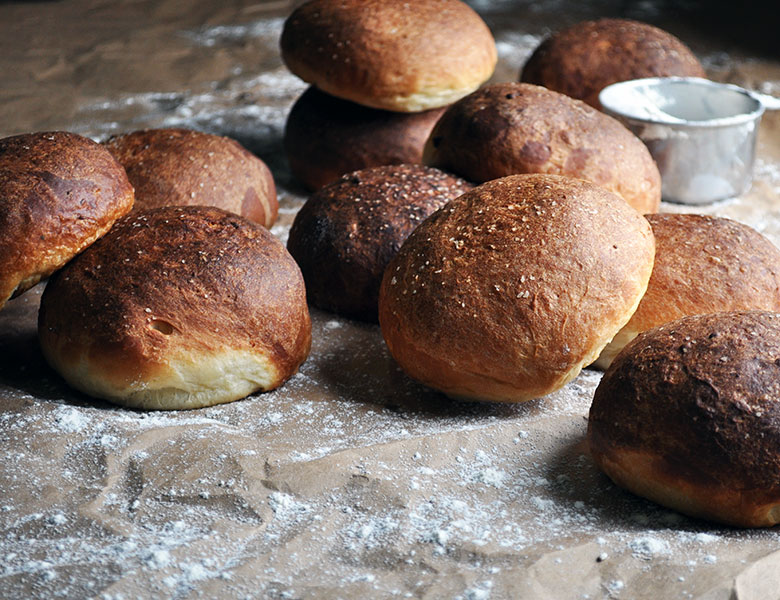hamburger_buns: (357, 162, 665, 420), (44, 170, 310, 441), (583, 298, 780, 530)
